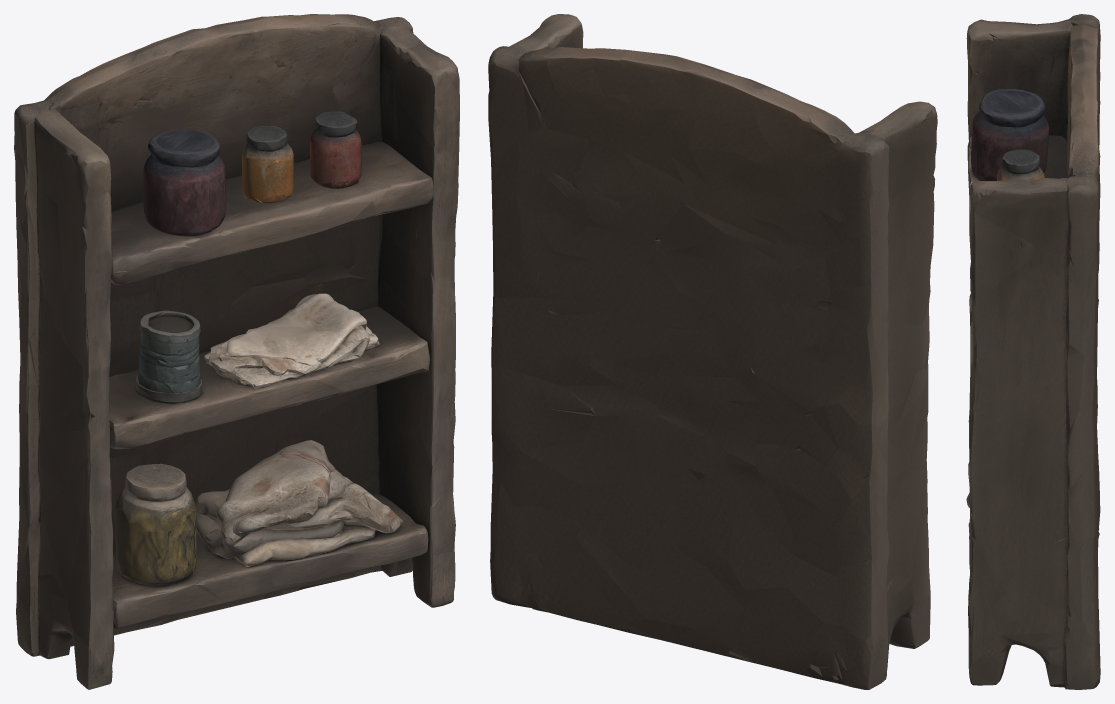
Rendered from scaffale.glb.
3 views of the same model, side by side, from view 1: azimuth 30°, elevation 25°; view 2: azimuth 150°, elevation 25°; view 3: azimuth 270°, elevation 25° (orthographic). The views are drawn at different scales.
Parts seen in each view (by area): view 1: Mesh_0; view 2: Mesh_0; view 3: Mesh_0.
Boxes of the visible parts, x1,y1,x2,y2 form: Mesh_0: (14,14,459,689); Mesh_0: (488,14,937,689); Mesh_0: (966,14,1100,689).
Size of the model in its own units: 1.35 by 1.9 by 0.4315.
1 material, 1 textured.
